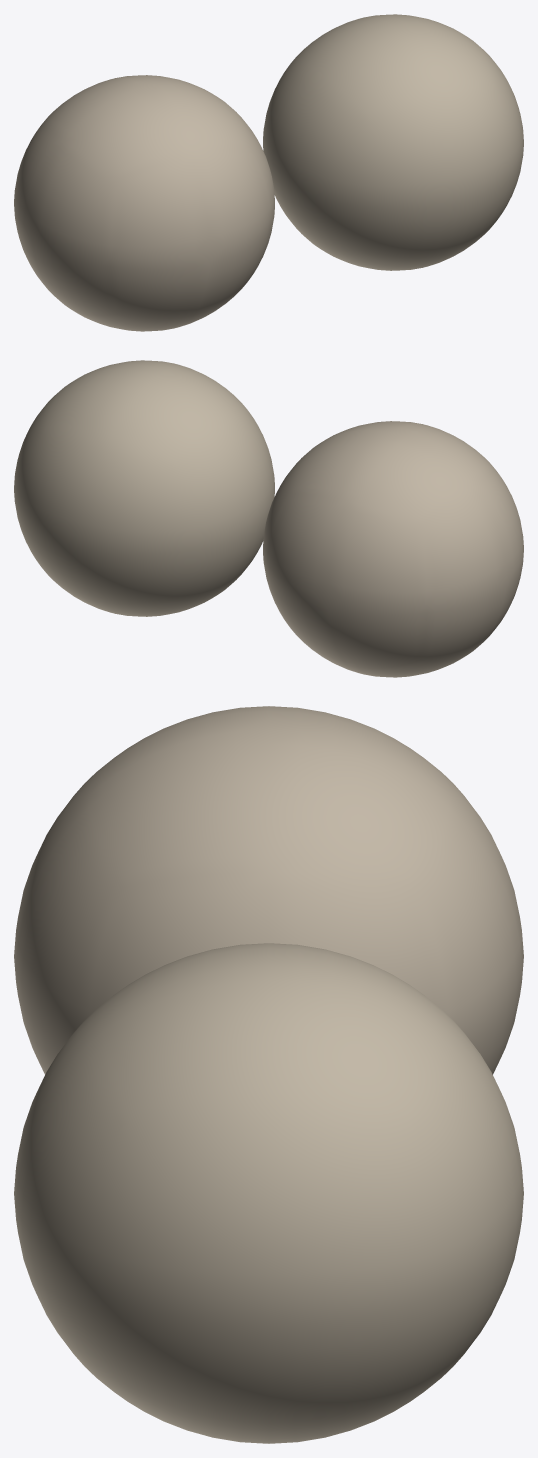
Rendered from CompareNormalLOD.glb.
3 renders of one model, top to bottom at view 1: azimuth 30°, elevation 25°; view 2: azimuth 150°, elevation 25°; view 3: azimuth 270°, elevation 25°, orthographic. The views are drawn at different scales.
Visible parts, largest first — view 1: Sphere001, Sphere002; view 2: Sphere001, Sphere002; view 3: Sphere002, Sphere001.
Boxes of the visible parts, x1,y1,x2,y2 form: Sphere001: [14, 75, 274, 331]; Sphere002: [263, 14, 523, 270]; Sphere001: [263, 421, 523, 677]; Sphere002: [14, 360, 274, 616]; Sphere002: [14, 943, 523, 1443]; Sphere001: [14, 706, 523, 1074].
Size of the model in its own units: 2.1 by 0.9803 by 1.
